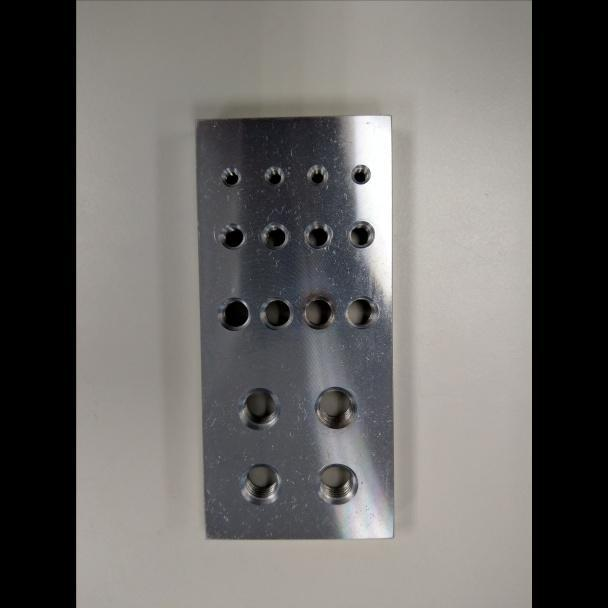hole: (236, 386, 281, 431), (237, 462, 283, 506), (311, 385, 357, 429), (314, 462, 358, 505), (343, 294, 380, 330), (215, 296, 251, 332), (257, 296, 294, 331), (302, 294, 336, 330), (259, 221, 290, 251), (346, 220, 376, 249), (217, 221, 246, 251), (303, 221, 332, 250), (305, 163, 329, 187), (219, 165, 242, 188), (348, 163, 371, 185), (263, 165, 285, 187)
